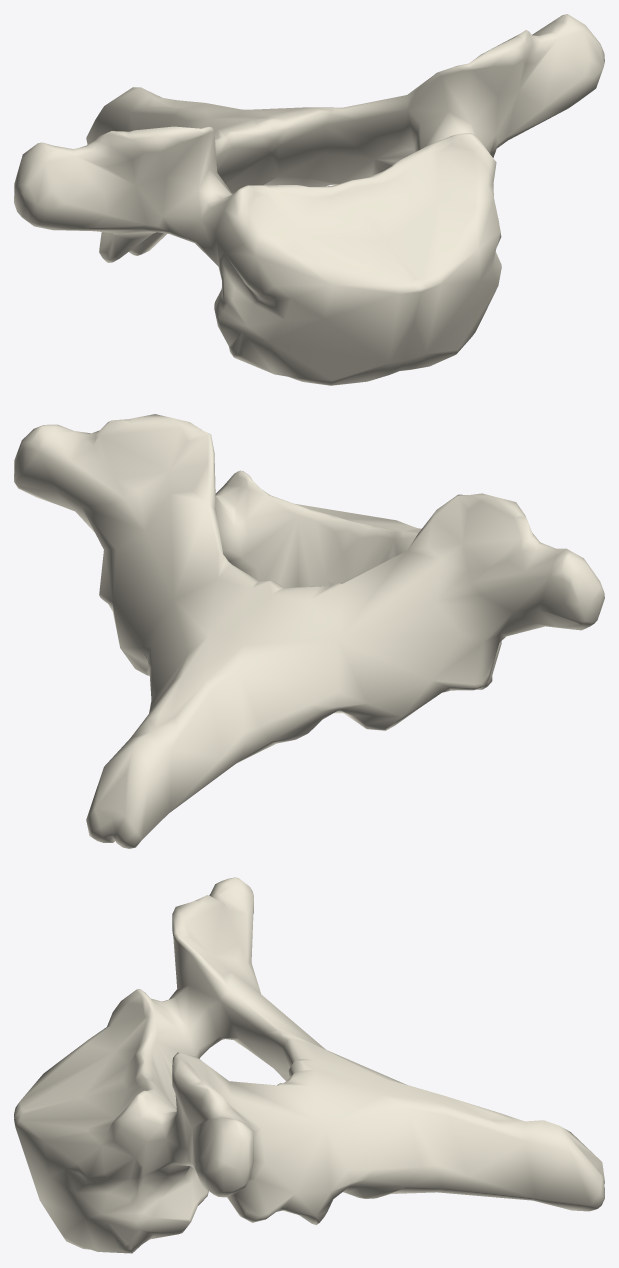
3 views of the same model, one above another, from view 1: azimuth 30°, elevation 25°; view 2: azimuth 150°, elevation 25°; view 3: azimuth 270°, elevation 25° (orthographic). The views are drawn at different scales.
Visible parts, largest first — view 1: ZA_ecb1f7dbc175da67; view 2: ZA_ecb1f7dbc175da67; view 3: ZA_ecb1f7dbc175da67.
Part boxes in pixels (<box>): ZA_ecb1f7dbc175da67: <box>14,14,604,385</box>; ZA_ecb1f7dbc175da67: <box>14,414,604,848</box>; ZA_ecb1f7dbc175da67: <box>14,877,604,1253</box>.
Size of the model in its own units: 0.0777 by 0.0308 by 0.0722.
